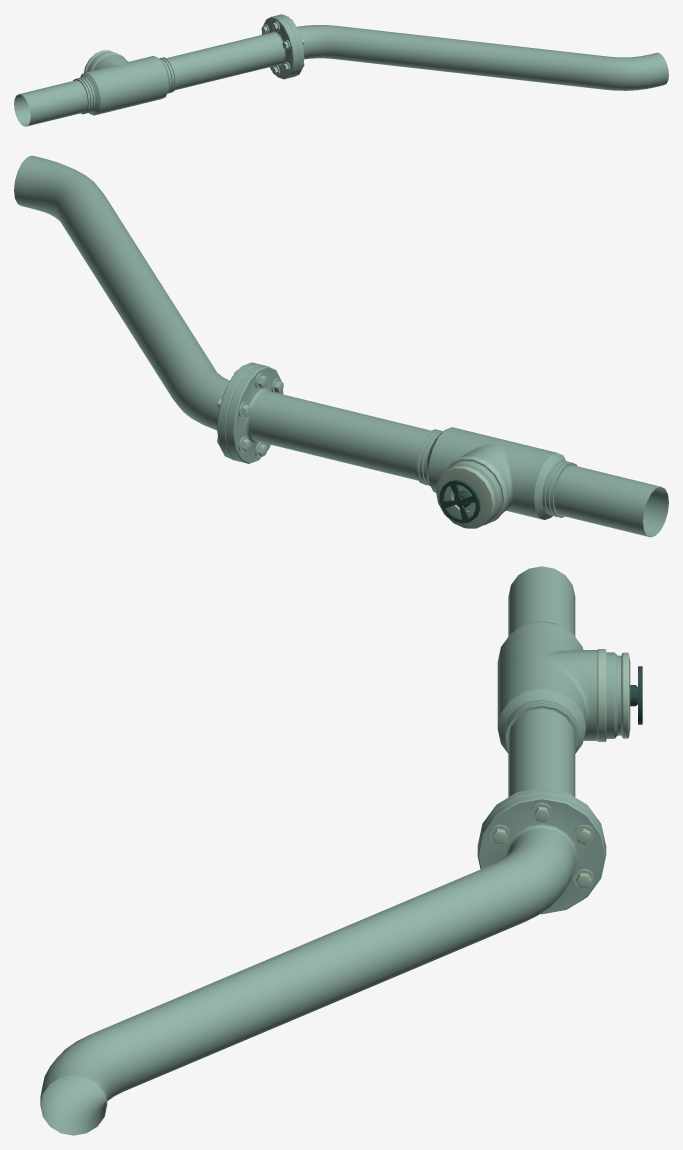
File: PipeComplexLarge_A3_14.fbx
3 renders of one model, top to bottom at view 1: azimuth 30°, elevation 25°; view 2: azimuth 150°, elevation 25°; view 3: azimuth 270°, elevation 25°, orthographic. The views are drawn at different scales.
Visible parts, largest first — view 1: PipeComplexLarge_A3_14.001; view 2: PipeComplexLarge_A3_14.001; view 3: PipeComplexLarge_A3_14.001.
Boxes of the visible parts, x1,y1,x2,y2 form: PipeComplexLarge_A3_14.001: (14,14,668,126); PipeComplexLarge_A3_14.001: (14,155,668,537); PipeComplexLarge_A3_14.001: (40,566,642,1135).
Size of the model in its own units: 3.6 by 0.3846 by 1.8.
